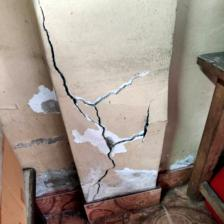High: (34, 1, 151, 224)
